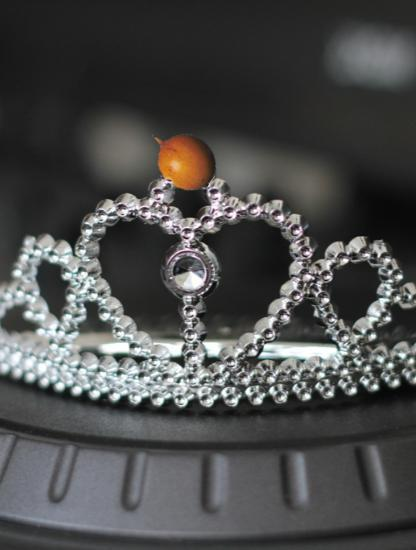Granadilla: (145, 120, 221, 196)
